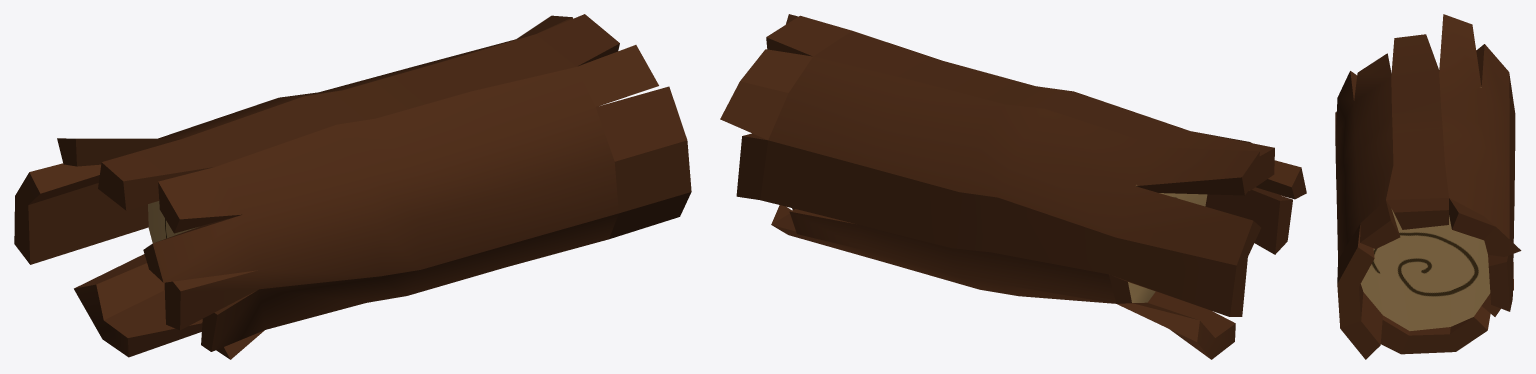
File: dead_log1.fbx
3 renders of one model, left to right at view 1: azimuth 30°, elevation 25°; view 2: azimuth 150°, elevation 25°; view 3: azimuth 270°, elevation 25°, orthographic. The views are drawn at different scales.
Parts seen in each view (by area): view 1: dead_log1; view 2: dead_log1; view 3: dead_log1.
Boxes of the visible parts, x1=… form: dead_log1: x1=14, y1=14, x2=691, y2=359; dead_log1: x1=720, y1=14, x2=1306, y2=359; dead_log1: x1=1335, y1=14, x2=1521, y2=359.
Size of the model in its own units: 1034 by 377 by 376.
Materials: 1 (1 with a texture image).
